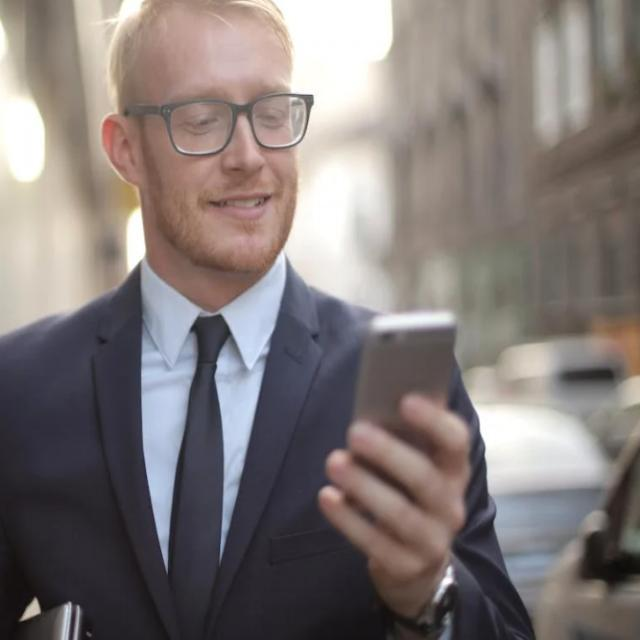Watch: (390, 564, 464, 636)
